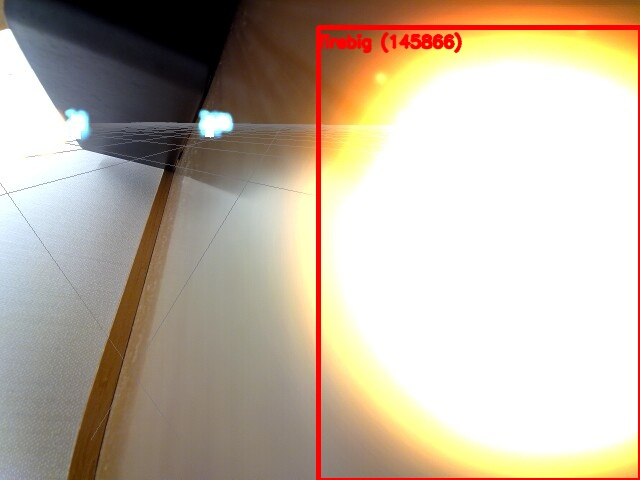firebig: (318, 27, 640, 480)
